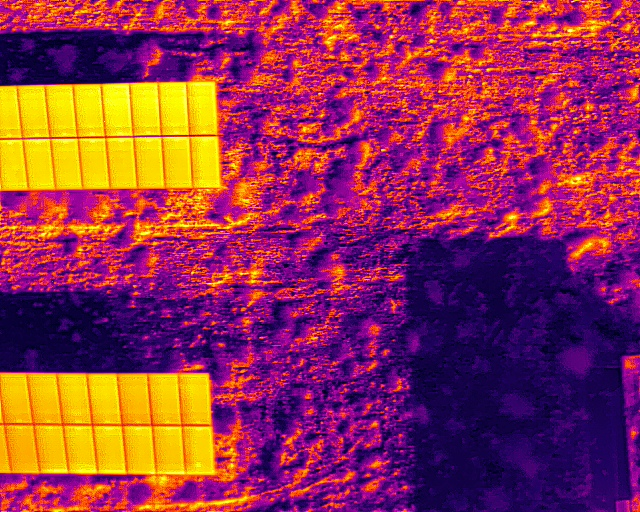photovoltaic_panels: (4, 78, 222, 193), (2, 369, 217, 477)
single_spot: (180, 423, 215, 476)
